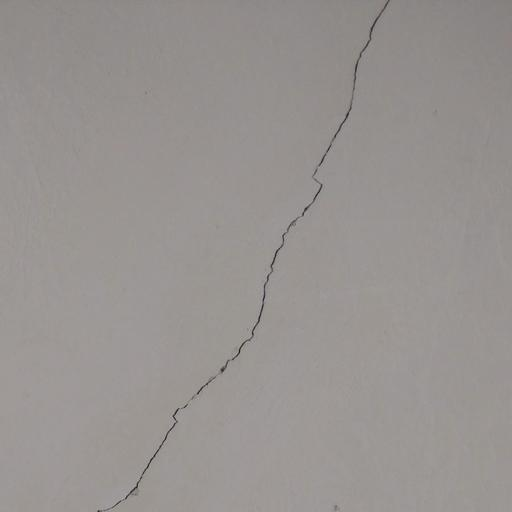major_crack: (94, 0, 389, 512)
